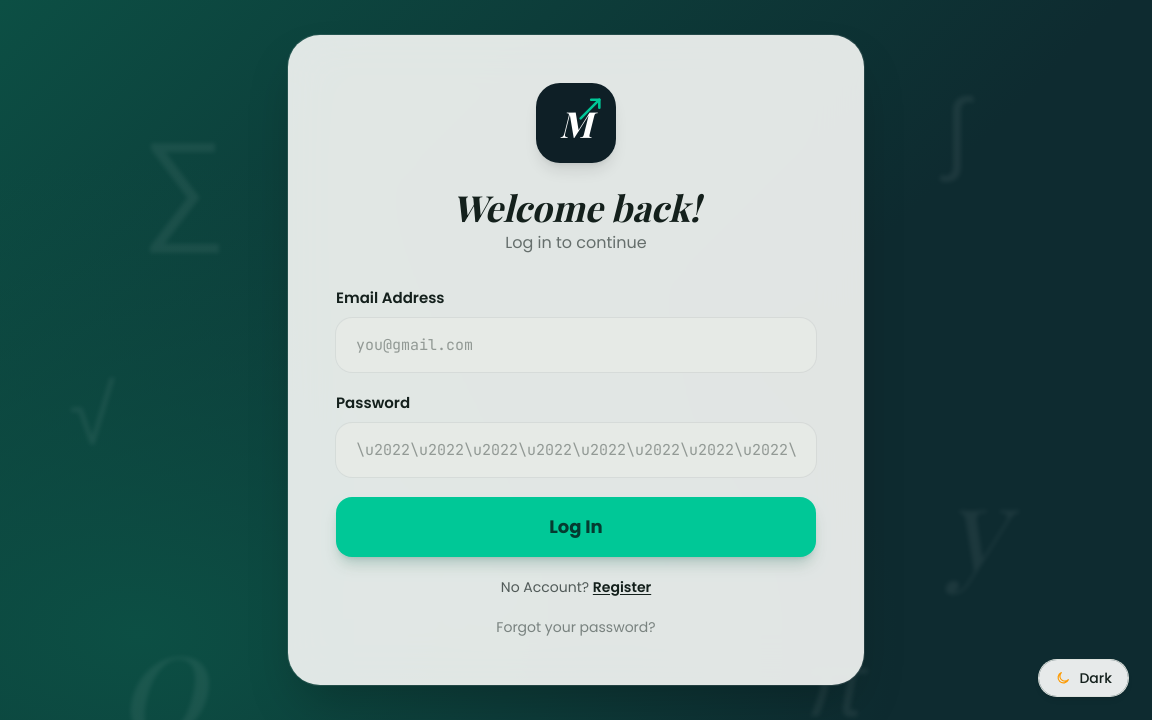
Test: Login Page › shows error when email is empty
Click the button "Log In" at (576, 527), box [336,497,816,557]
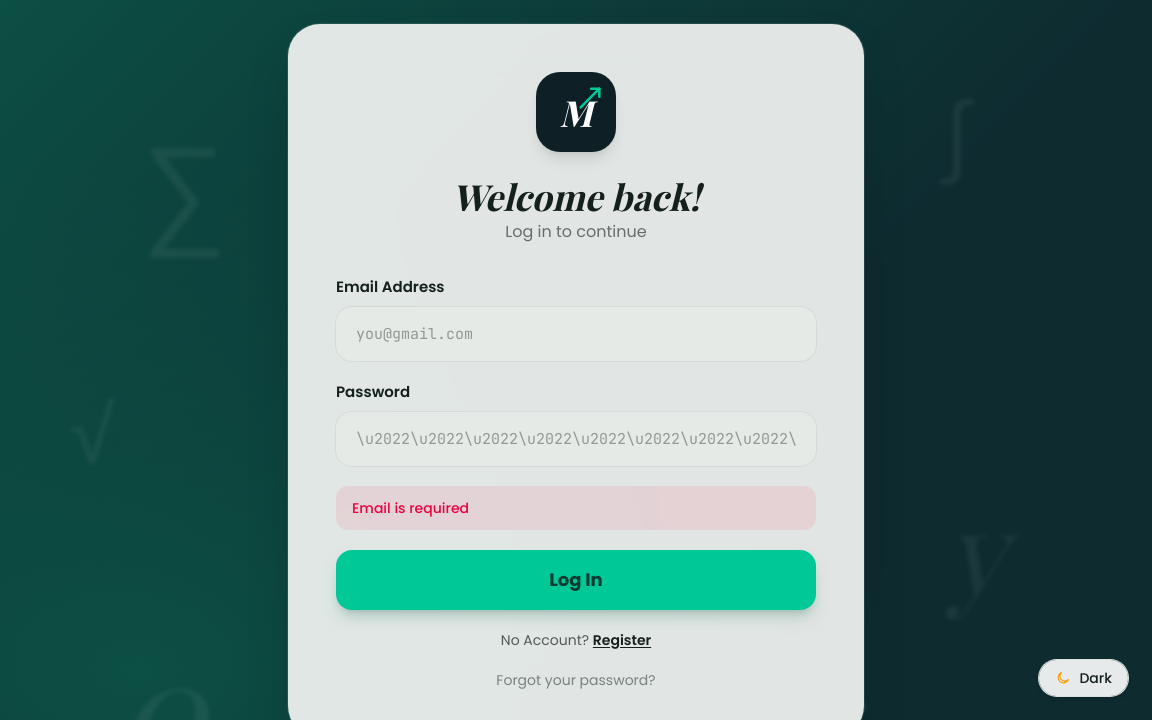
expect the text "Email is required" is shown: met, box [336,486,816,530]
